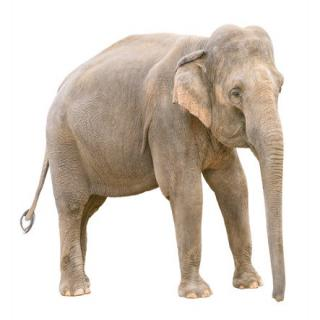Elephant: (21, 17, 295, 306)
